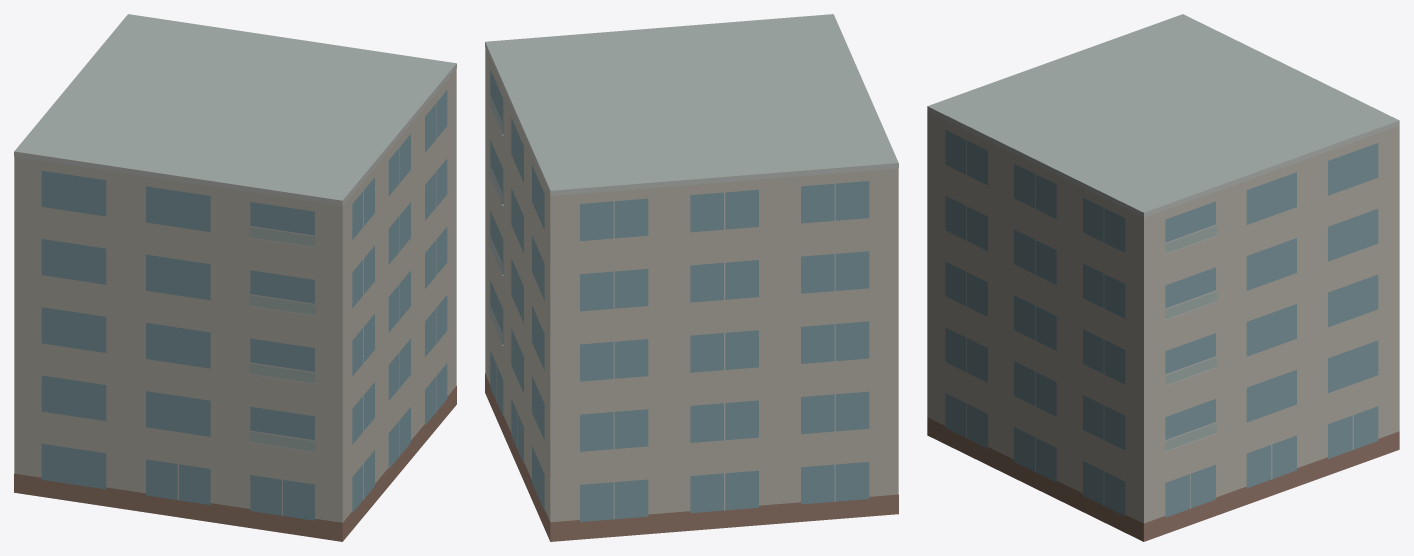
File: survey-upis-32833088.glb
3 renders of one model, left to right at view 1: azimuth 30°, elevation 25°; view 2: azimuth 150°, elevation 25°; view 3: azimuth 270°, elevation 25°, orthographic. The views are drawn at different scales.
Visible parts, largest first — view 1: survey-upis-32833088.tmp; view 2: survey-upis-32833088.tmp; view 3: survey-upis-32833088.tmp.
Boxes of the visible parts, <box> form: survey-upis-32833088.tmp: <box>14,14,456,541</box>; survey-upis-32833088.tmp: <box>485,14,898,541</box>; survey-upis-32833088.tmp: <box>927,14,1399,541</box>.
Bounding box in the file's own units: 20.54 × 15.85 × 20.63.
